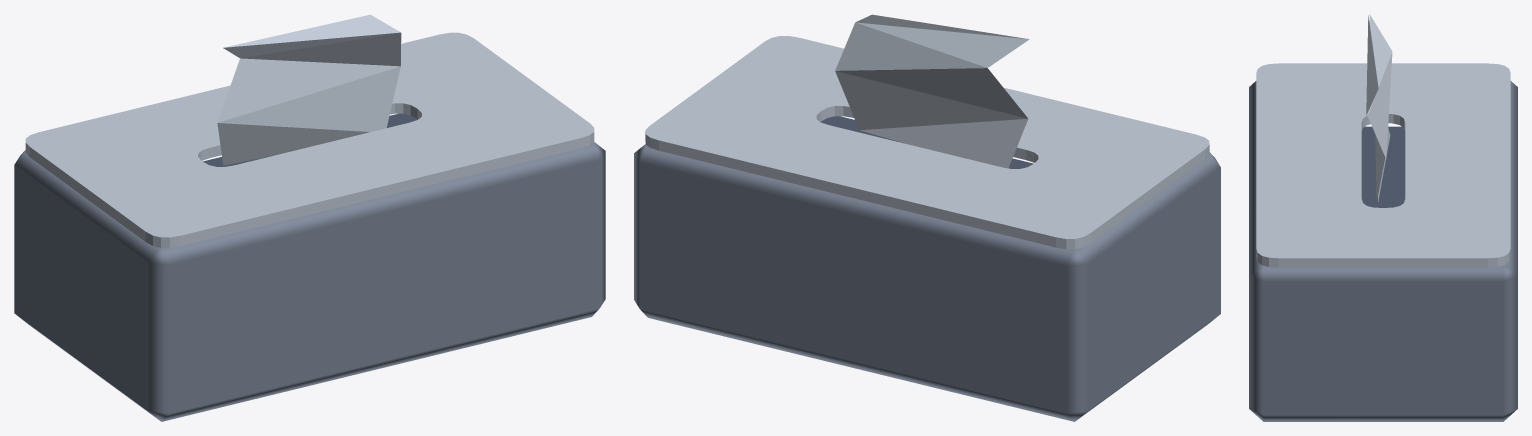
The model's file is decor-tissue-box-lite.glb.
The picture shows the model from 3 angles, left to right: view 1: azimuth 30°, elevation 25°; view 2: azimuth 150°, elevation 25°; view 3: azimuth 270°, elevation 25°; orthographic projection. The views are drawn at different scales.
Visible parts, largest first — view 1: decor-tissue-box; view 2: decor-tissue-box; view 3: decor-tissue-box.
Boxes of the visible parts, x1,y1,x2,y2 form: decor-tissue-box: [14, 14, 605, 421]; decor-tissue-box: [634, 14, 1220, 421]; decor-tissue-box: [1249, 14, 1517, 421].
Bounding box in the file's own units: 0.23 × 0.145 × 0.13.
